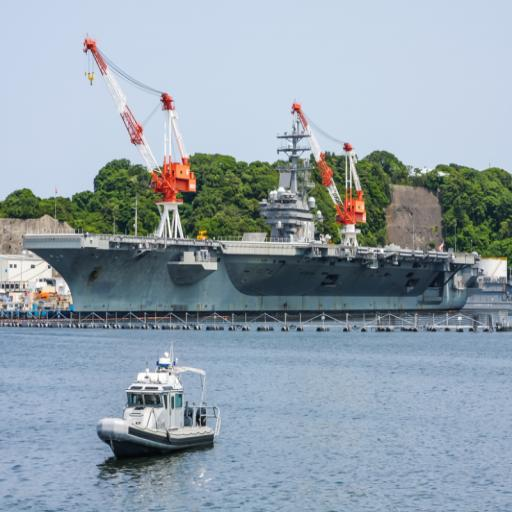Portanaves: (22, 109, 488, 323)
